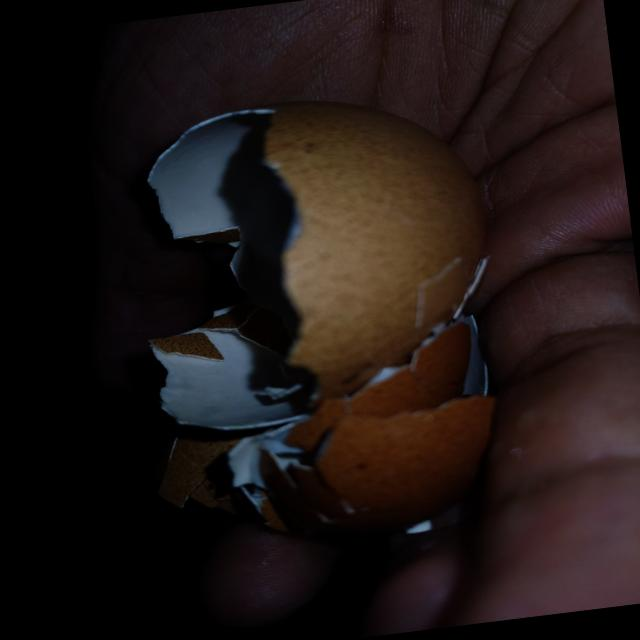organic: (115, 76, 522, 558)
